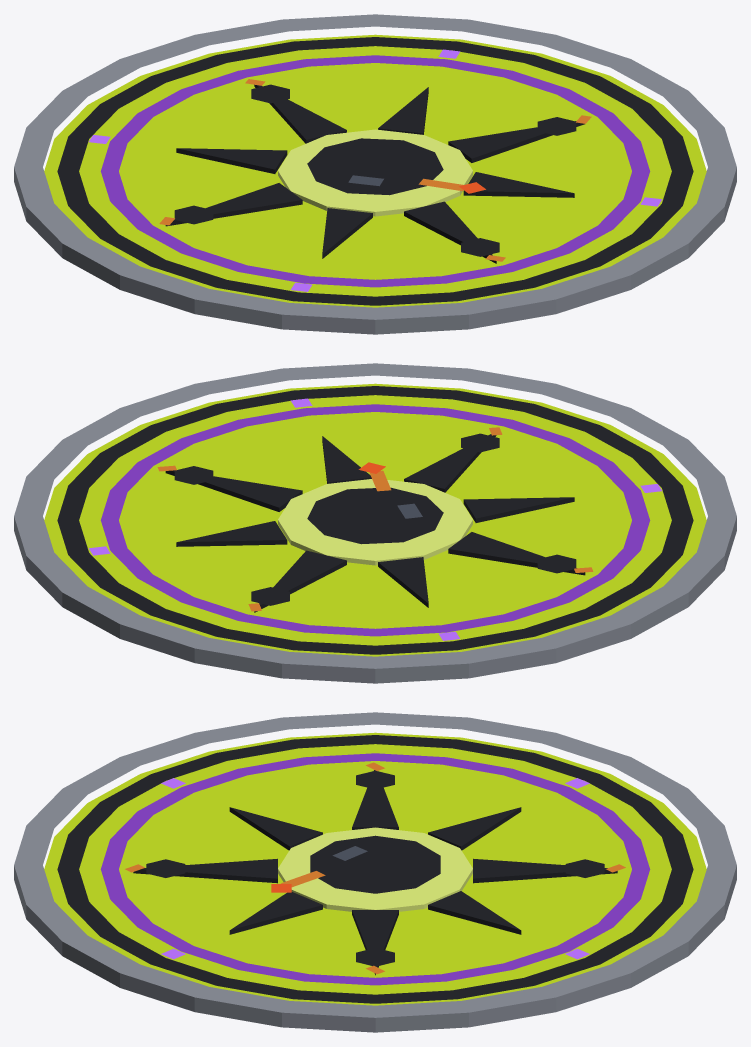
The model's file is daredevil_rare_area.glb.
3 renders of one model, top to bottom at view 1: azimuth 30°, elevation 25°; view 2: azimuth 150°, elevation 25°; view 3: azimuth 270°, elevation 25°, orthographic.
Visible parts, largest first — view 1: daredevil_rare_area; view 2: daredevil_rare_area; view 3: daredevil_rare_area.
Boxes of the visible parts, bbox=[...] form: daredevil_rare_area: bbox=[14, 14, 736, 334]; daredevil_rare_area: bbox=[14, 363, 736, 683]; daredevil_rare_area: bbox=[14, 712, 736, 1032].
Bounding box in the file's own units: 2 × 0.049 × 2.
2 materials, 2 textured.
